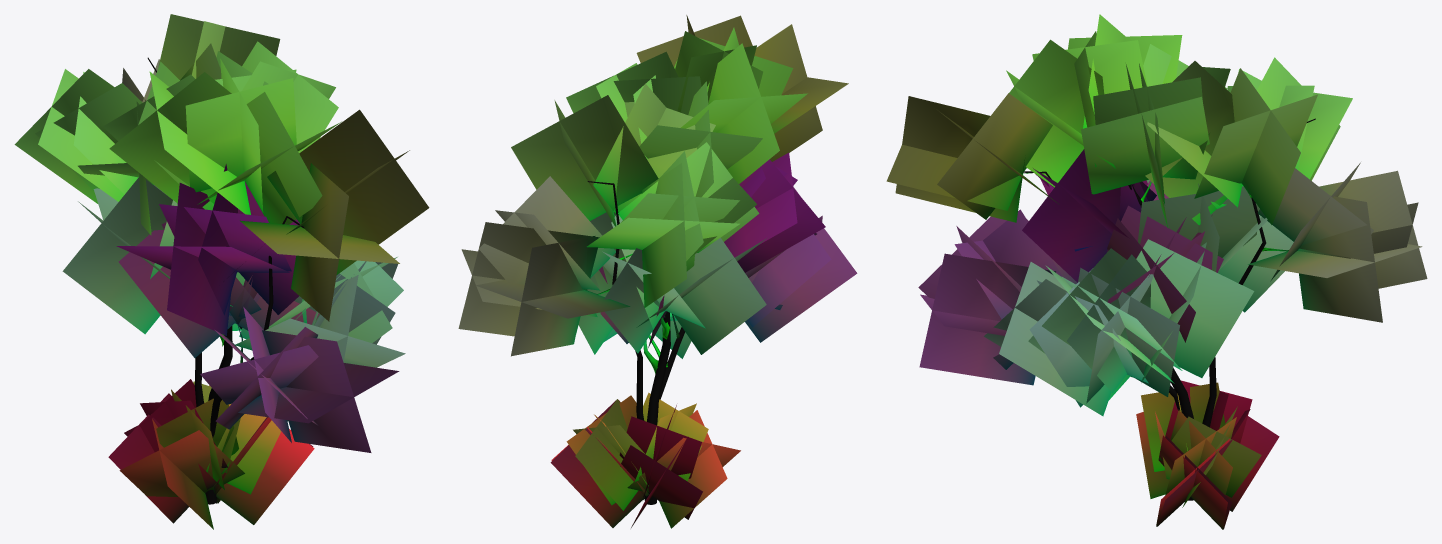
The model's file is URP_P12_Tree_11_LOD_2.fbx.
The picture shows the model from 3 angles, left to right: view 1: azimuth 30°, elevation 25°; view 2: azimuth 150°, elevation 25°; view 3: azimuth 270°, elevation 25°; orthographic projection. The views are drawn at different scales.
Visible parts, largest first — view 1: Tree_11_LOD_2; view 2: Tree_11_LOD_2; view 3: Tree_11_LOD_2.
Boxes of the visible parts, x1=… form: Tree_11_LOD_2: x1=14, y1=14, x2=429, y2=529; Tree_11_LOD_2: x1=458, y1=15, x2=857, y2=528; Tree_11_LOD_2: x1=886, y1=14, x2=1427, y2=529.
Bounding box in the file's own units: 166 × 285 × 291.
